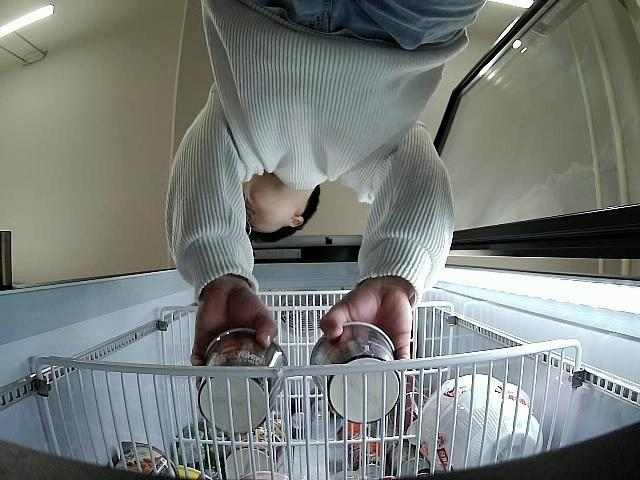08_buldak_S: (198, 328, 288, 430), (310, 322, 400, 423)
